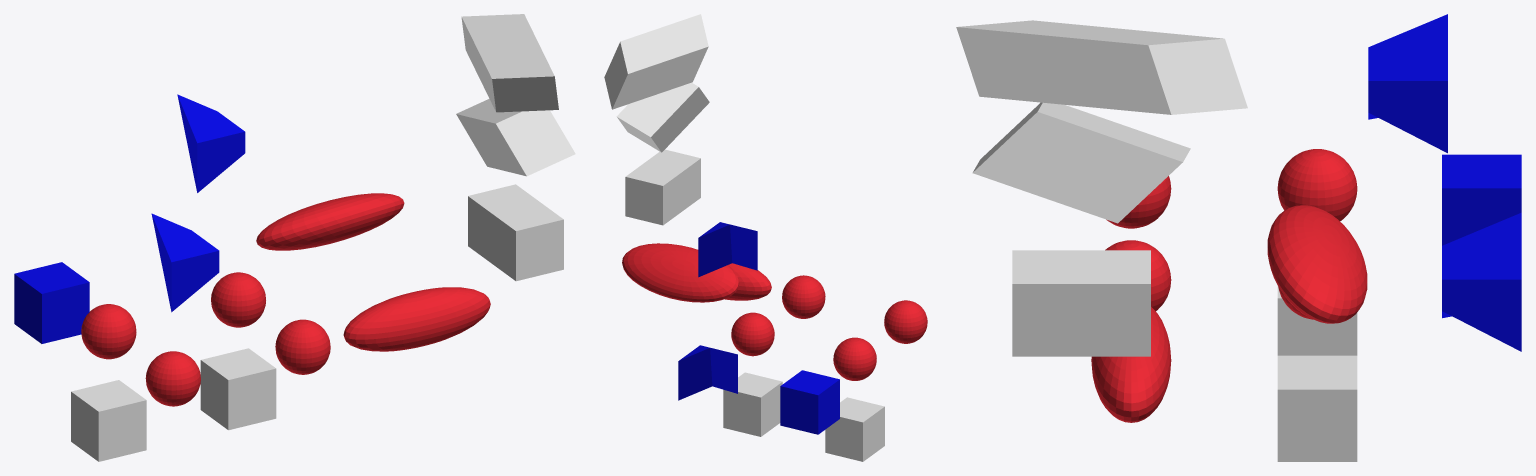
The picture shows the model from 3 angles, left to right: view 1: azimuth 30°, elevation 25°; view 2: azimuth 150°, elevation 25°; view 3: azimuth 270°, elevation 25°; orthographic projection. The views are drawn at different scales.
Parts seen in each view (by area): view 1: Cube.003, Cube.004, Cube.006, Sphere.003, Cube.005, Cube, Sphere.002, Cube.002, Cube.001, Sphere.001, Sphere; view 2: Cube.003, Cube.006, Sphere.002, Cube.004, Cube.005, Cube, Cube.001, Cube.002, Sphere, Sphere.001, Sphere.003; view 3: Cube.006, Cube.005, Cube.004, Cube.003, Sphere.002, Cube, Cube.001, Cube.002, Sphere.003, Sphere.001.
Boxes of the visible parts, x1,y1,x2,y2 form: Cube.003: [14, 262, 200, 461]; Cube.004: [468, 184, 563, 281]; Cube.006: [461, 14, 558, 112]; Sphere.003: [343, 287, 490, 351]; Cube.005: [456, 98, 575, 176]; Cube: [200, 348, 276, 430]; Sphere.002: [256, 193, 404, 250]; Cube.002: [177, 94, 245, 192]; Cube.001: [151, 213, 219, 312]; Sphere.001: [275, 319, 330, 374]; Sphere: [211, 272, 265, 327]; Cube.003: [780, 300, 927, 461]; Cube.006: [604, 14, 708, 109]; Sphere.002: [622, 243, 739, 302]; Cube.004: [625, 149, 700, 225]; Cube.005: [616, 82, 709, 152]; Cube: [723, 372, 782, 436]; Cube.001: [678, 345, 737, 400]; Cube.002: [698, 222, 757, 277]; Sphere: [731, 312, 774, 356]; Sphere.001: [782, 275, 825, 318]; Sphere.003: [724, 263, 771, 300]; Cube.006: [956, 20, 1247, 114]; Cube.005: [972, 102, 1190, 223]; Cube.004: [1012, 250, 1150, 356]; Cube.003: [1106, 149, 1521, 355]; Sphere.002: [1267, 205, 1367, 323]; Cube: [1277, 355, 1357, 461]; Cube.001: [1442, 212, 1521, 351]; Cube.002: [1368, 14, 1447, 153]; Sphere.003: [1091, 307, 1171, 422]; Sphere.001: [1105, 240, 1171, 311].
Size of the model in its own units: 16.39 by 15.46 by 14.16.
